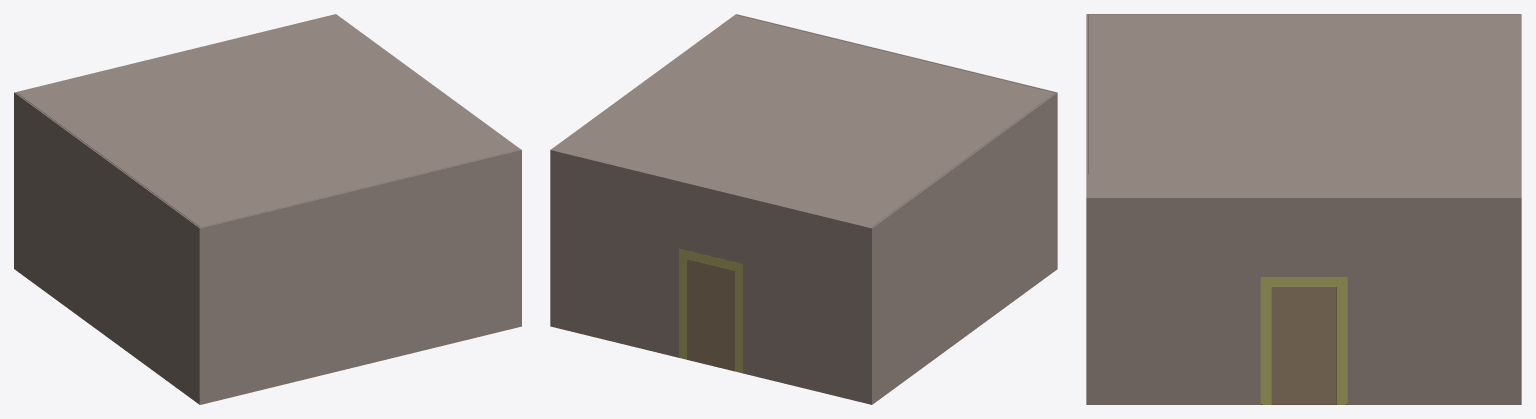
The model's file is Room44_UndergroundLake.fbx.
3 renders of one model, left to right at view 1: azimuth 30°, elevation 25°; view 2: azimuth 150°, elevation 25°; view 3: azimuth 270°, elevation 25°, orthographic. The views are drawn at different scales.
Parts seen in each view (by area): view 1: Roof, WallPosZ, WallPosX; view 2: Roof, WallSlicedNegZ, WallPosX, DoorNegZ, DoorFrameNegZ, WallPosZ, WallSlicedNegX; view 3: WallSlicedNegX, Roof, DoorNegX, DoorFrameNegX, WallSlicedNegZ, WallPosZ, WallPosX.
Boxes of the visible parts, x1,y1,x2,y2 form: Roof: (17,15,519,227); WallPosZ: (200,150,521,404); WallPosX: (14,92,200,404); Roof: (552,15,1054,227); WallSlicedNegZ: (550,149,871,404); WallPosX: (870,92,1057,404); DoorNegZ: (687,259,734,370); DoorFrameNegZ: (679,248,742,372); WallPosZ: (736,14,1056,92); WallSlicedNegX: (550,14,736,326); WallSlicedNegX: (1086,197,1521,404); Roof: (1088,15,1519,197); DoorNegX: (1271,286,1336,404); DoorFrameNegX: (1260,277,1347,404); WallSlicedNegZ: (1518,14,1521,404); WallPosZ: (1086,14,1088,404); WallPosX: (1087,14,1521,174).
Size of the model in its own units: 100 by 52.5 by 100.
